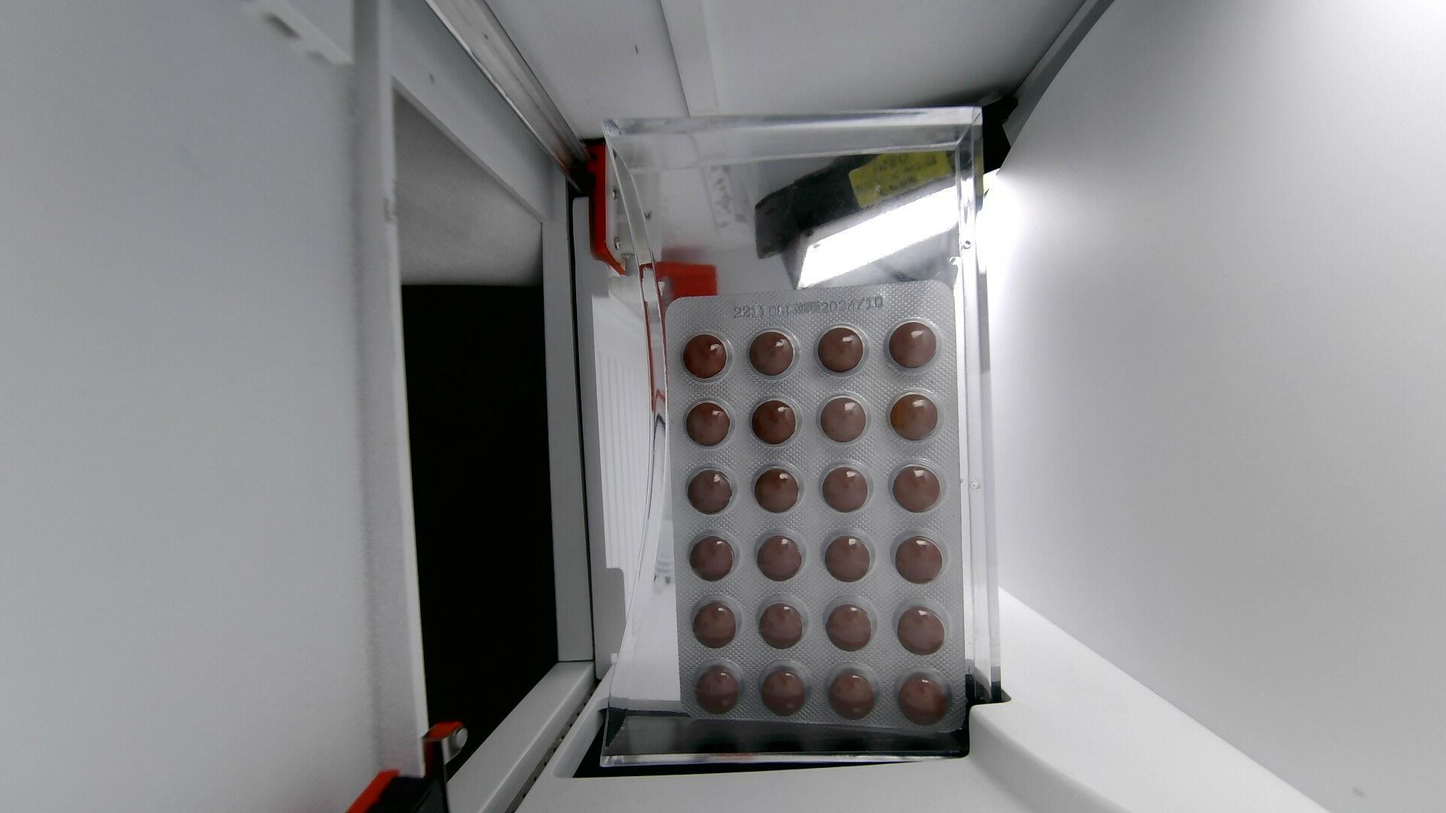Light Front: (667, 281, 967, 736)
Pill Front: (899, 671, 945, 723), (829, 670, 874, 720), (898, 607, 944, 655), (761, 667, 806, 715), (824, 535, 870, 581), (817, 327, 864, 372), (889, 322, 936, 367), (891, 394, 937, 439), (895, 537, 941, 582), (826, 604, 871, 650), (756, 535, 802, 580), (893, 467, 940, 511), (820, 397, 865, 442), (696, 666, 738, 713), (686, 402, 730, 446), (683, 335, 727, 378), (823, 467, 867, 510), (688, 470, 731, 513), (755, 469, 798, 512), (750, 331, 792, 375), (692, 601, 736, 643), (691, 536, 732, 579), (760, 604, 801, 647), (754, 401, 795, 443)
